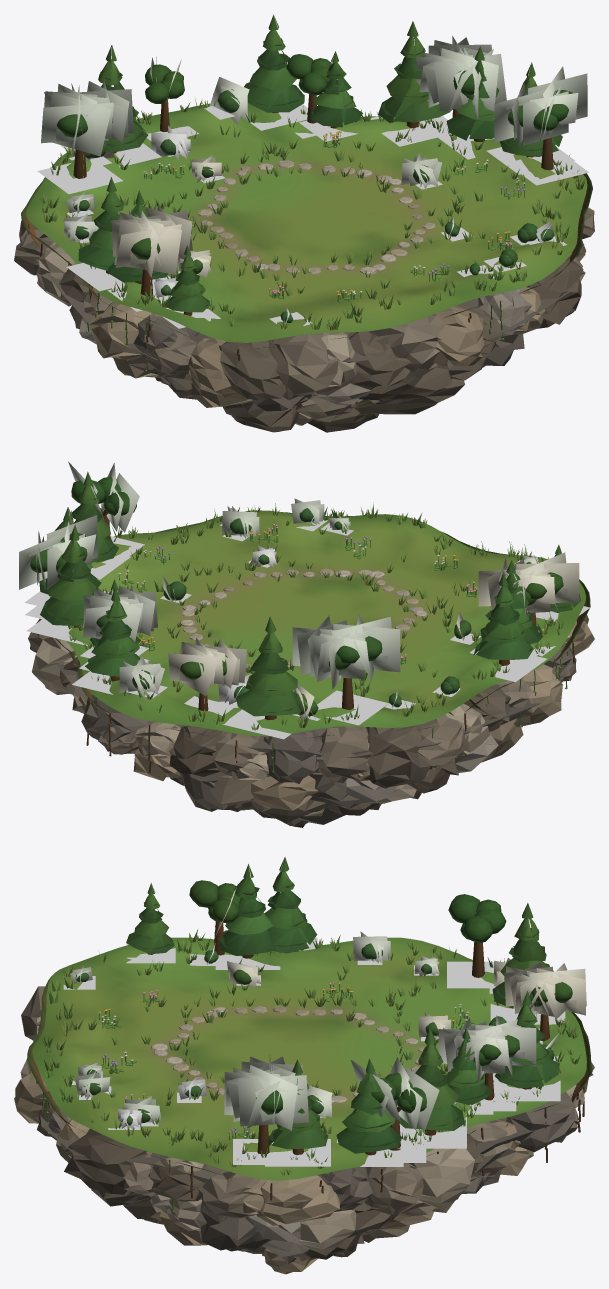
File: g3d-island.glb
3 renders of one model, top to bottom at view 1: azimuth 30°, elevation 25°; view 2: azimuth 150°, elevation 25°; view 3: azimuth 270°, elevation 25°, orthographic. The views are drawn at different scales.
Visible parts, largest first — view 1: island-kit, island-foliage-0.016, island-leaf-cards, island-foliage-0.09, island-decal; view 2: island-kit, island-leaf-cards, island-foliage-0.016, island-foliage-0.09, island-decal; view 3: island-kit, island-foliage-0.016, island-leaf-cards, island-decal, island-foliage-0.09.
Boxes of the visible parts, x1,y1,x2,y2 form: island-kit: (14, 103, 594, 432); island-foliage-0.016: (28, 14, 580, 371); island-leaf-cards: (41, 36, 587, 323); island-foliage-0.09: (39, 93, 586, 330); island-decal: (37, 104, 588, 328); island-kit: (28, 510, 594, 827); island-leaf-cards: (19, 461, 579, 720); island-foliage-0.016: (30, 471, 581, 772); island-foliage-0.09: (49, 502, 563, 730); island-decal: (24, 520, 589, 739); island-kit: (14, 937, 594, 1274); island-foliage-0.016: (36, 857, 584, 1211); island-leaf-cards: (70, 882, 586, 1132); island-decal: (63, 937, 565, 1166); island-foliage-0.09: (41, 929, 581, 1175).
Size of the model in its own units: 18.19 by 10.95 by 18.07.
